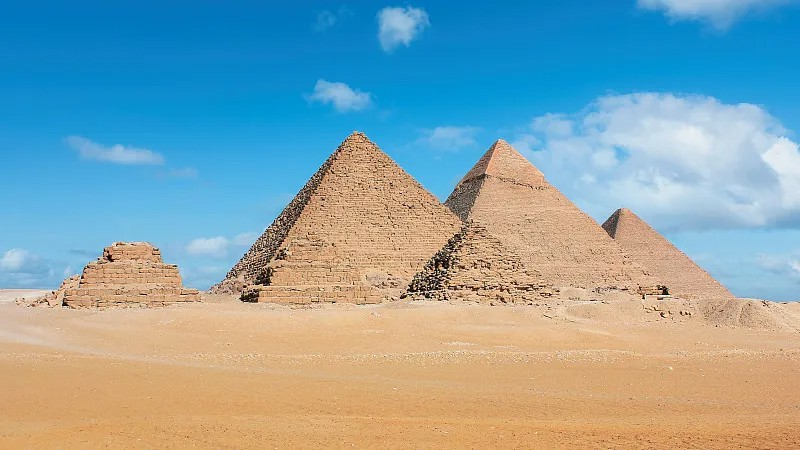Pyramid: (213, 130, 466, 295), (445, 139, 668, 296), (405, 218, 560, 300), (601, 205, 734, 297), (241, 232, 382, 305), (53, 242, 201, 306)
